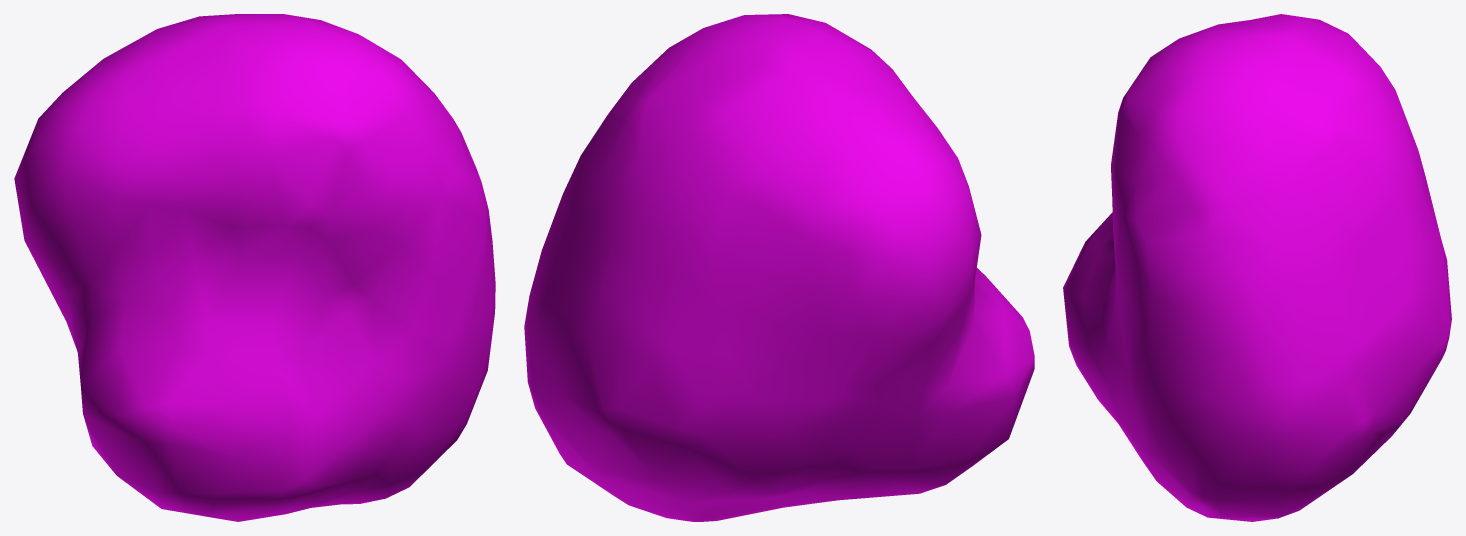
Rendered from RIM101.fbx.
3 renders of one model, left to right at view 1: azimuth 30°, elevation 25°; view 2: azimuth 150°, elevation 25°; view 3: azimuth 270°, elevation 25°, orthographic. The views are drawn at different scales.
Visible parts, largest first — view 1: chain_A_surface; view 2: chain_A_surface; view 3: chain_A_surface.
Part boxes in pixels (x1=…): chain_A_surface: x1=14, y1=14, x2=495, y2=521; chain_A_surface: x1=524, y1=14, x2=1034, y2=521; chain_A_surface: x1=1063, y1=14, x2=1451, y2=521.
Size of the model in its own units: 33.49 by 35.72 by 28.76.
